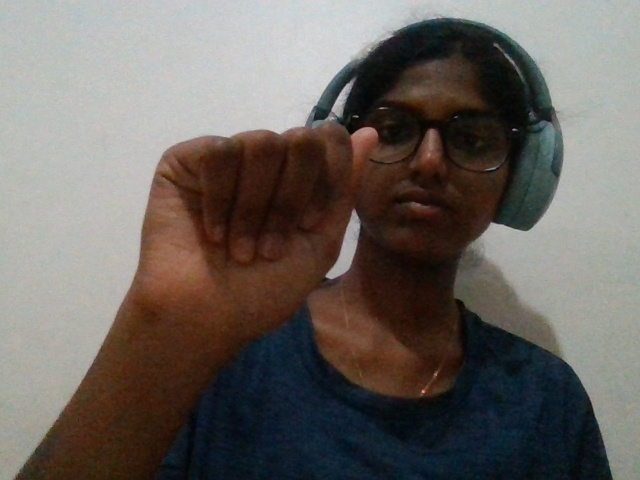A: (82, 111, 384, 388)
